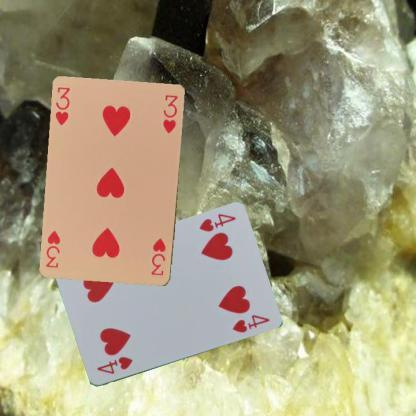3h: (147, 235, 168, 278), (52, 84, 72, 127)
4h: (196, 210, 237, 233), (94, 354, 134, 376)
